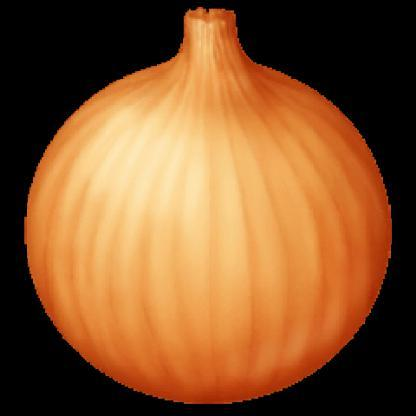onion: (46, 8, 396, 396)
